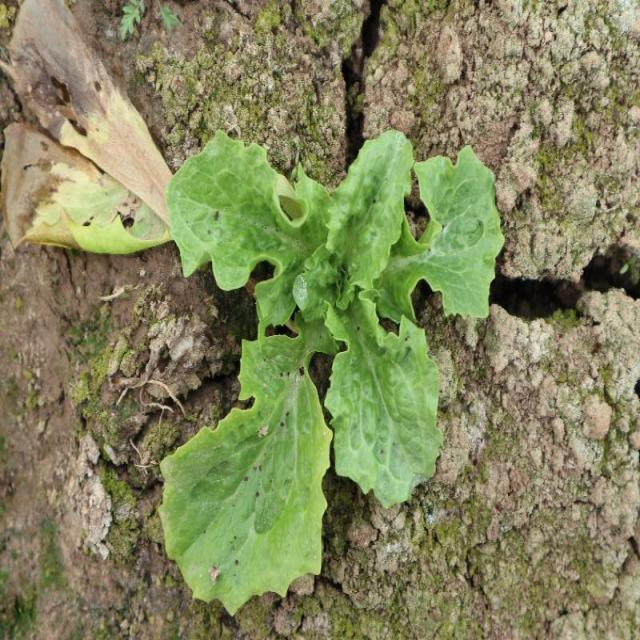crop: (159, 136, 507, 615)
